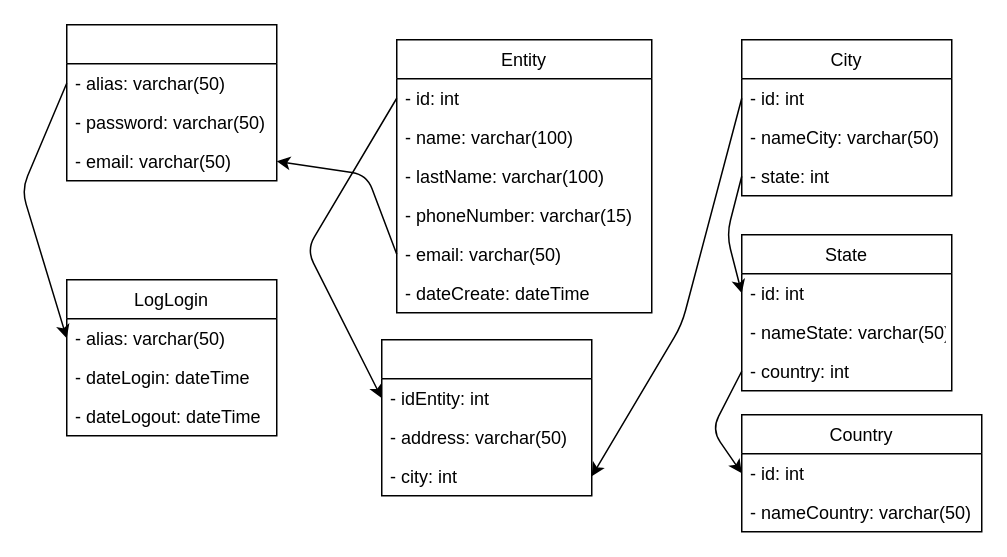
Image size: 1007x557. Some labels were removed from this diagram. Each missing label, with the box of its shape:
Location: (380, 338, 592, 496)
User: (65, 23, 277, 181)
